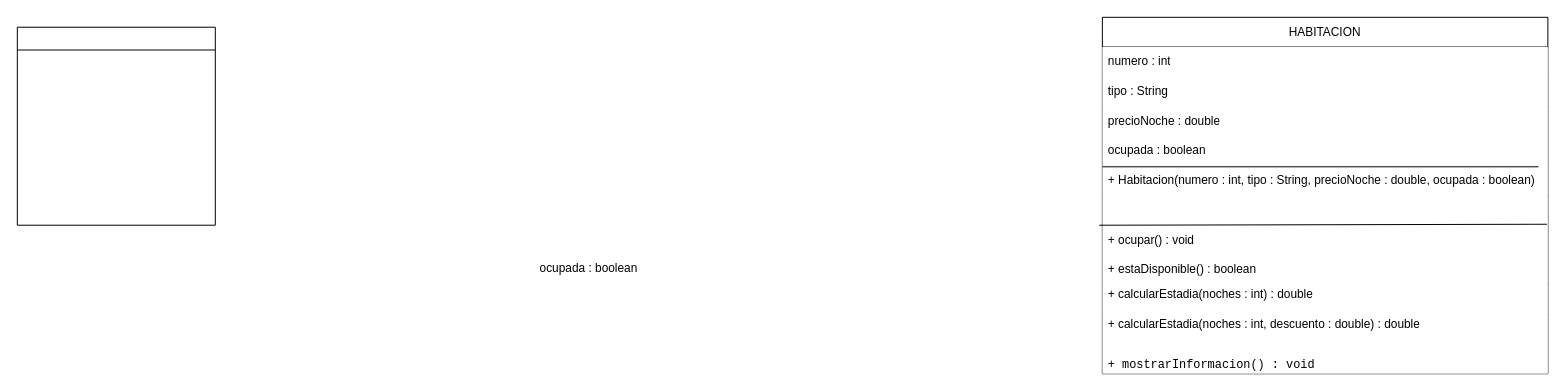
Some shapes in this 1566 by 391 pixel diagram are drawn without their labels. Each missing label, with the centre of its shape:
+ Habitacion(numero : int, tipo : String): (x=1324, y=210)
Vertical Container: (x=115, y=125)
